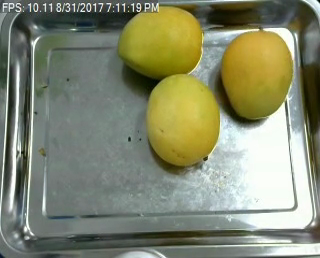Mango: (142, 71, 222, 165), (222, 25, 298, 123), (114, 4, 208, 81)
